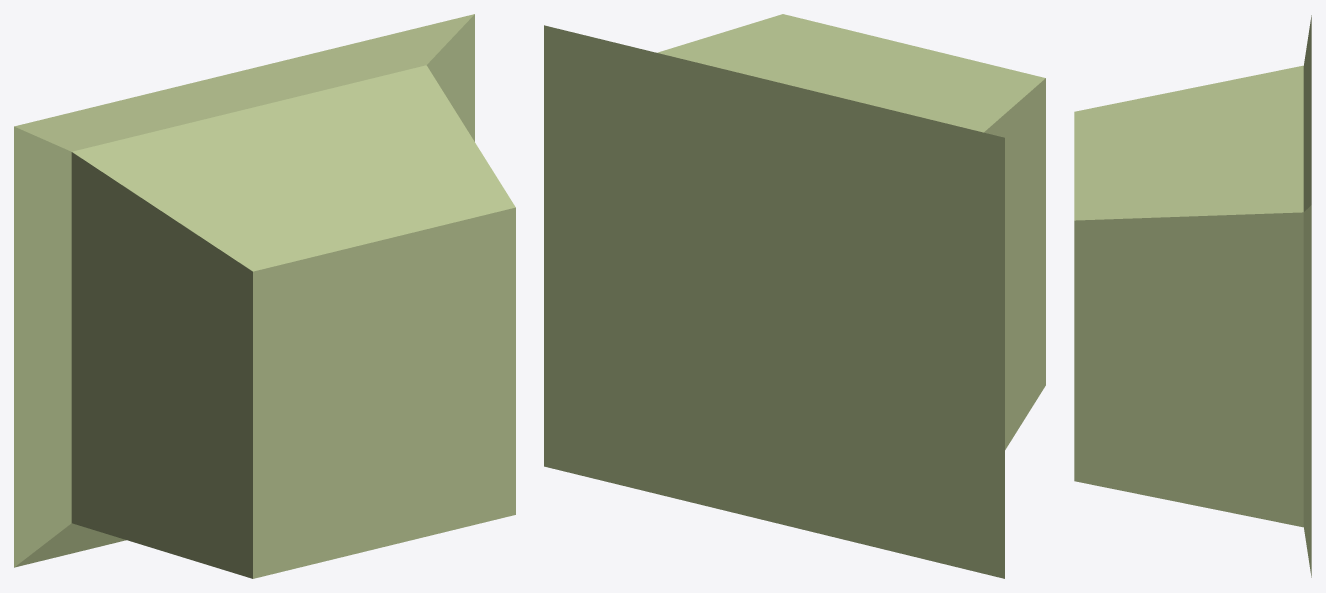
Rendered from lockbox.fbx.
3 views of the same model, side by side, from view 1: azimuth 30°, elevation 25°; view 2: azimuth 150°, elevation 25°; view 3: azimuth 270°, elevation 25° (orthographic). The views are drawn at different scales.
Parts seen in each view (by area): view 1: Cube.001; view 2: Cube.001; view 3: Cube.001.
Part boxes in pixels (x1,y1,x2,y2): Cube.001: (14,14,515,578); Cube.001: (544,14,1045,578); Cube.001: (1074,15,1311,577).
Size of the model in its own units: 1.17 by 1.07 by 0.6145.
